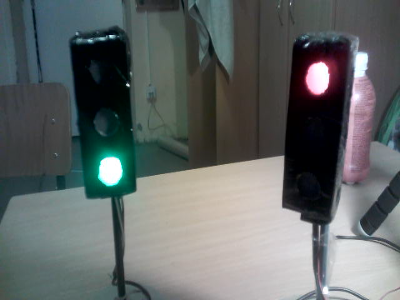trafficlight_green: (76, 34, 137, 191)
trafficlight_red: (281, 41, 351, 209)
